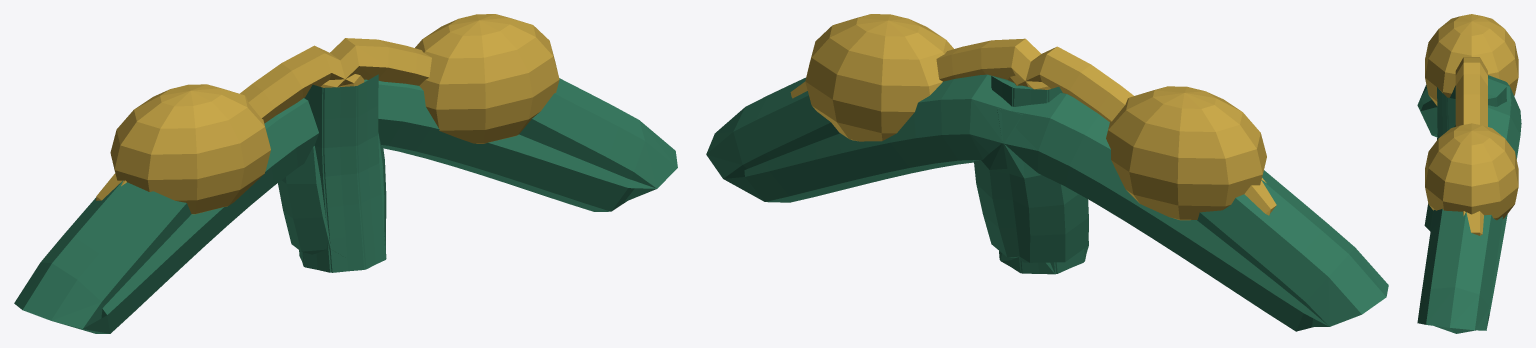
Rendered from dainoi-hero.glb.
3 views of the same model, side by side, from view 1: azimuth 30°, elevation 25°; view 2: azimuth 150°, elevation 25°; view 3: azimuth 270°, elevation 25° (orthographic). The views are drawn at different scales.
Parts seen in each view (by area): view 1: dainoi_hero_ornaments; view 2: dainoi_hero_ornaments; view 3: dainoi_hero_ornaments.
Part boxes in pixels (bbox=[...]): dainoi_hero_ornaments: bbox=[14, 14, 677, 333]; dainoi_hero_ornaments: bbox=[706, 14, 1388, 331]; dainoi_hero_ornaments: bbox=[1417, 14, 1521, 333].
Bounding box in the file's own units: 7330434 × 2997777 × 1302789.
